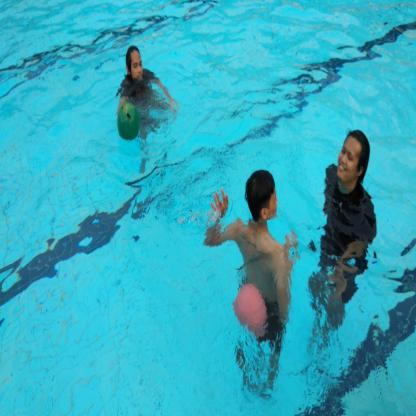green_buoy: (113, 99, 142, 149)
red_buoy: (233, 279, 270, 346)
